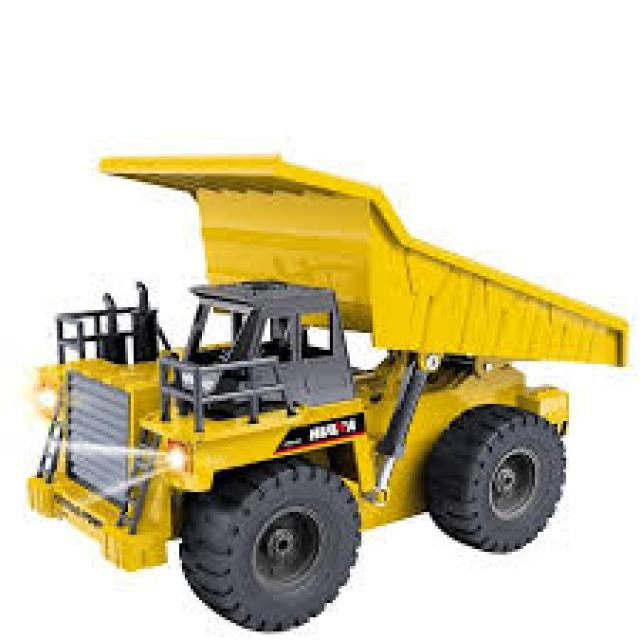dump_truck: (15, 139, 629, 633)
